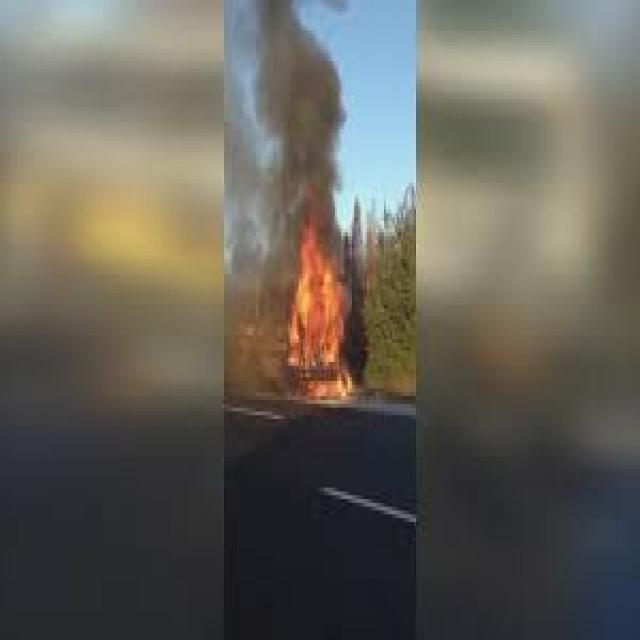fire: (273, 209, 365, 404)
